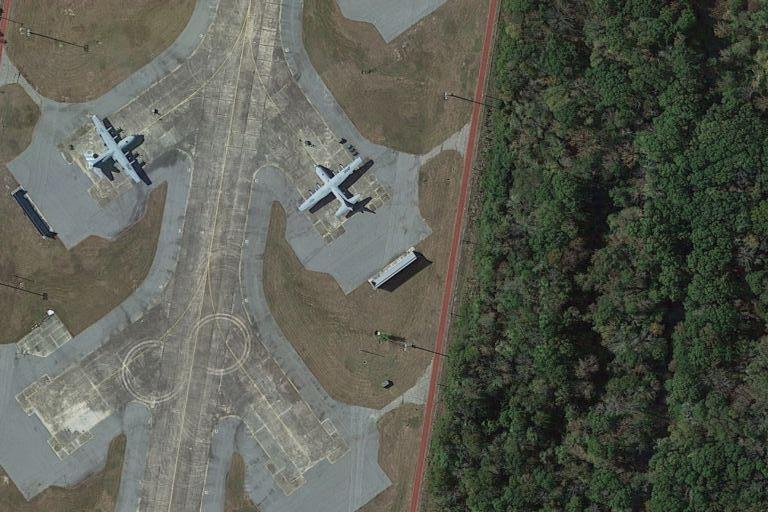C-130: (80, 109, 146, 187), (293, 154, 368, 220)
